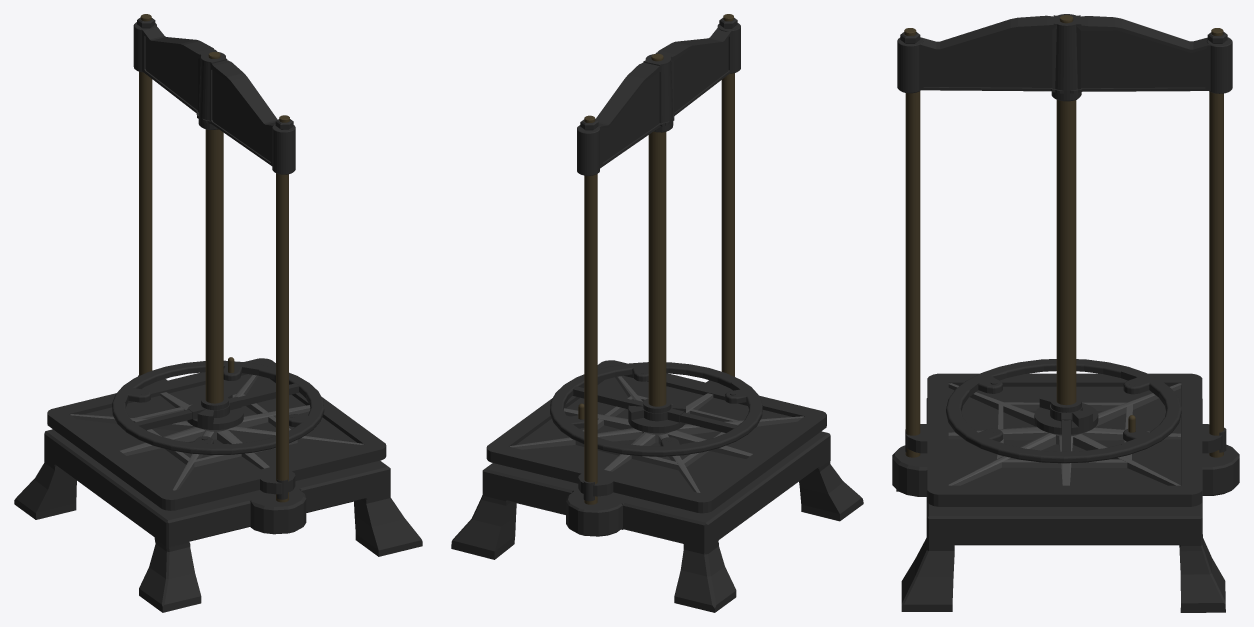
File: proekt 1.fbx
3 renders of one model, left to right at view 1: azimuth 30°, elevation 25°; view 2: azimuth 150°, elevation 25°; view 3: azimuth 270°, elevation 25°, orthographic. The views are drawn at different scales.
Visible parts, largest first — view 1: Cube, Cube.001, Cylinder.014, Cylinder.002, Cylinder.008, Cylinder, Cylinder.010, Cylinder.009, Cylinder.001; view 2: Cube, Cube.001, Cylinder.014, Cylinder.002, Cylinder.008, Cylinder, Cylinder.010, Cylinder.009, Cylinder.001; view 3: Cube.001, Cylinder.014, Cube, Cylinder.002, Cylinder.008, Cylinder, Cylinder.009, Cylinder.010, Cylinder.001.
Boxes of the visible parts, <box> form: Cube: <box>14,429,422,612</box>; Cube.001: <box>47,358,386,510</box>; Cylinder.014: <box>133,22,295,174</box>; Cylinder.002: <box>112,360,324,454</box>; Cylinder.008: <box>205,52,223,403</box>; Cylinder: <box>70,375,363,490</box>; Cylinder.010: <box>139,71,152,375</box>; Cylinder.009: <box>276,173,288,502</box>; Cylinder.001: <box>135,383,299,430</box>; Cube: <box>451,431,863,612</box>; Cube.001: <box>486,360,826,513</box>; Cylinder.014: <box>577,23,740,175</box>; Cylinder.002: <box>550,362,762,456</box>; Cylinder.008: <box>648,53,666,406</box>; Cylinder: <box>510,376,803,492</box>; Cylinder.010: <box>584,174,597,504</box>; Cylinder.009: <box>721,73,734,376</box>; Cylinder.001: <box>572,386,738,433</box>; Cube.001: <box>906,373,1222,506</box>; Cylinder.014: <box>897,14,1232,101</box>; Cube: <box>892,398,1239,612</box>; Cylinder.002: <box>946,359,1181,463</box>; Cylinder.008: <box>1056,15,1076,405</box>; Cylinder: <box>948,383,1181,485</box>; Cylinder.009: <box>905,91,920,457</box>; Cylinder.010: <box>1209,91,1223,457</box>; Cylinder.001: <box>1034,394,1098,451</box>.
Bounding box in the file's own units: 1143 × 1960 × 1179.
